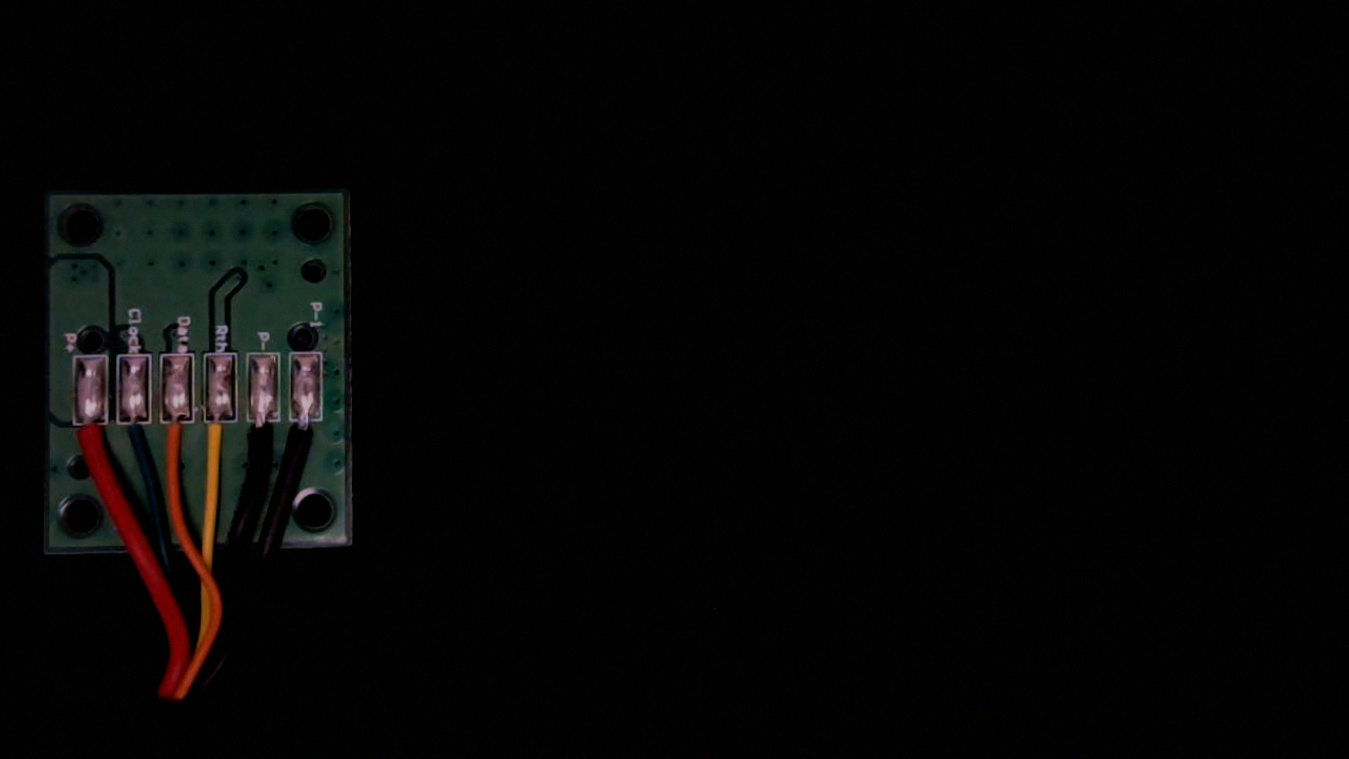Black: (262, 415, 304, 490)
Black1: (313, 415, 357, 487)
Green: (112, 415, 160, 491)
Orange: (164, 415, 210, 493)
Red: (61, 419, 109, 494)
Yellow: (209, 416, 257, 496)
